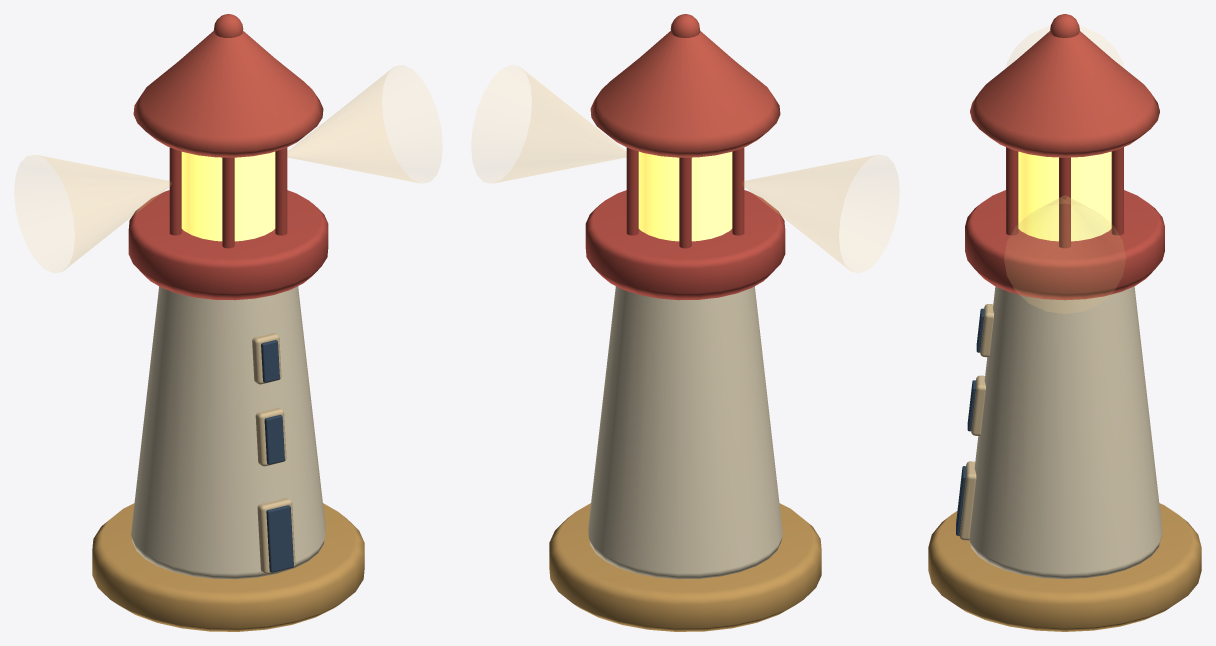
Rendered from Lighthouse.glb.
3 views of the same model, side by side, from view 1: azimuth 30°, elevation 25°; view 2: azimuth 150°, elevation 25°; view 3: azimuth 270°, elevation 25° (orthographic).
Parts seen in each view (by area): view 1: Lighthouse, Beacon; view 2: Lighthouse, Beacon; view 3: Lighthouse, Beacon.
Boxes of the visible parts, x1,y1,x2,y2 form: Lighthouse: [92, 14, 364, 631]; Beacon: [14, 65, 442, 272]; Lighthouse: [549, 14, 821, 631]; Beacon: [471, 65, 899, 272]; Lighthouse: [928, 14, 1201, 631]; Beacon: [1004, 27, 1125, 313].
Size of the model in its own units: 1.74 by 2.55 by 1.12.
